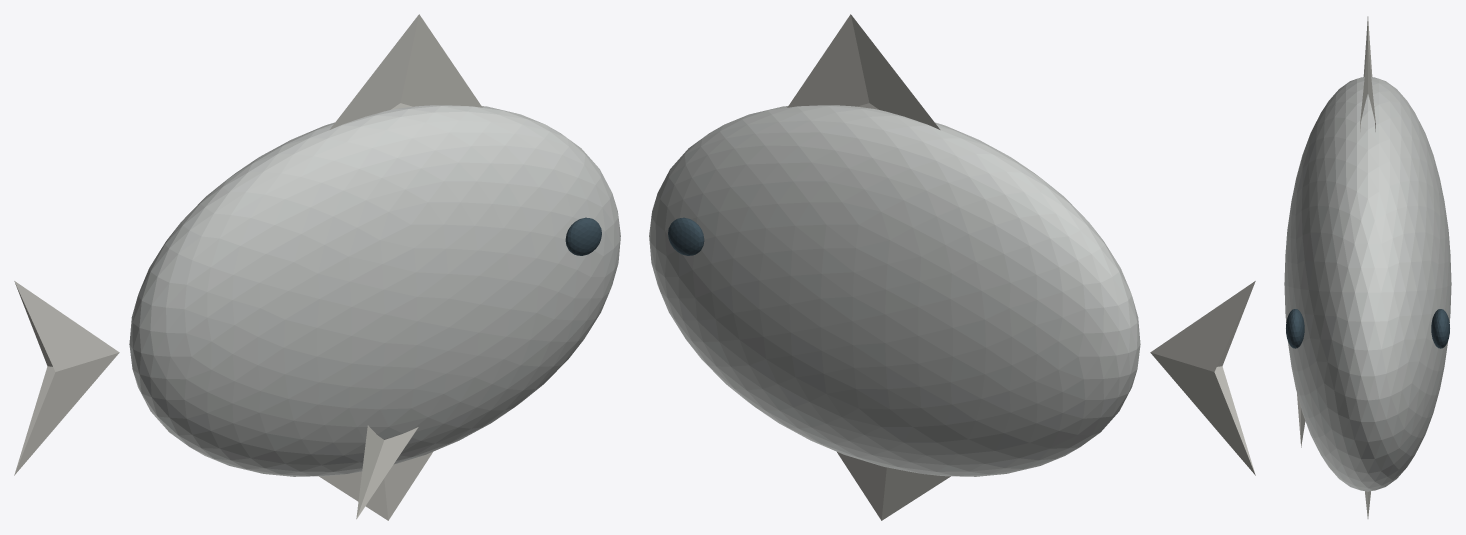
File: Ikan_Bawal_Putih.glb
The picture shows the model from 3 angles, left to right: view 1: azimuth 30°, elevation 25°; view 2: azimuth 150°, elevation 25°; view 3: azimuth 270°, elevation 25°; orthographic projection.
Visible parts, largest first — view 1: Part_00, Part_01, Part_02, Part_03, Part_04, Part_05; view 2: Part_00, Part_01, Part_02, Part_03, Part_06; view 3: Part_00, Part_05, Part_06, Part_02, Part_01.
Part boxes in pixels (x1,y1,x2,y2): Part_00: (129,105,620,476); Part_01: (14,281,119,475); Part_02: (329,14,482,129); Part_03: (319,452,432,520); Part_04: (356,425,418,519); Part_05: (565,217,601,255); Part_00: (649,105,1140,476); Part_01: (1150,281,1255,475); Part_02: (787,14,940,129); Part_03: (837,452,950,520); Part_06: (668,217,704,255); Part_00: (1284,77,1451,491); Part_05: (1286,309,1304,348); Part_06: (1431,309,1449,348); Part_02: (1360,45,1375,131); Part_01: (1363,16,1372,76).
Size of the model in its own units: 1.3 by 1.03 by 0.3168.
